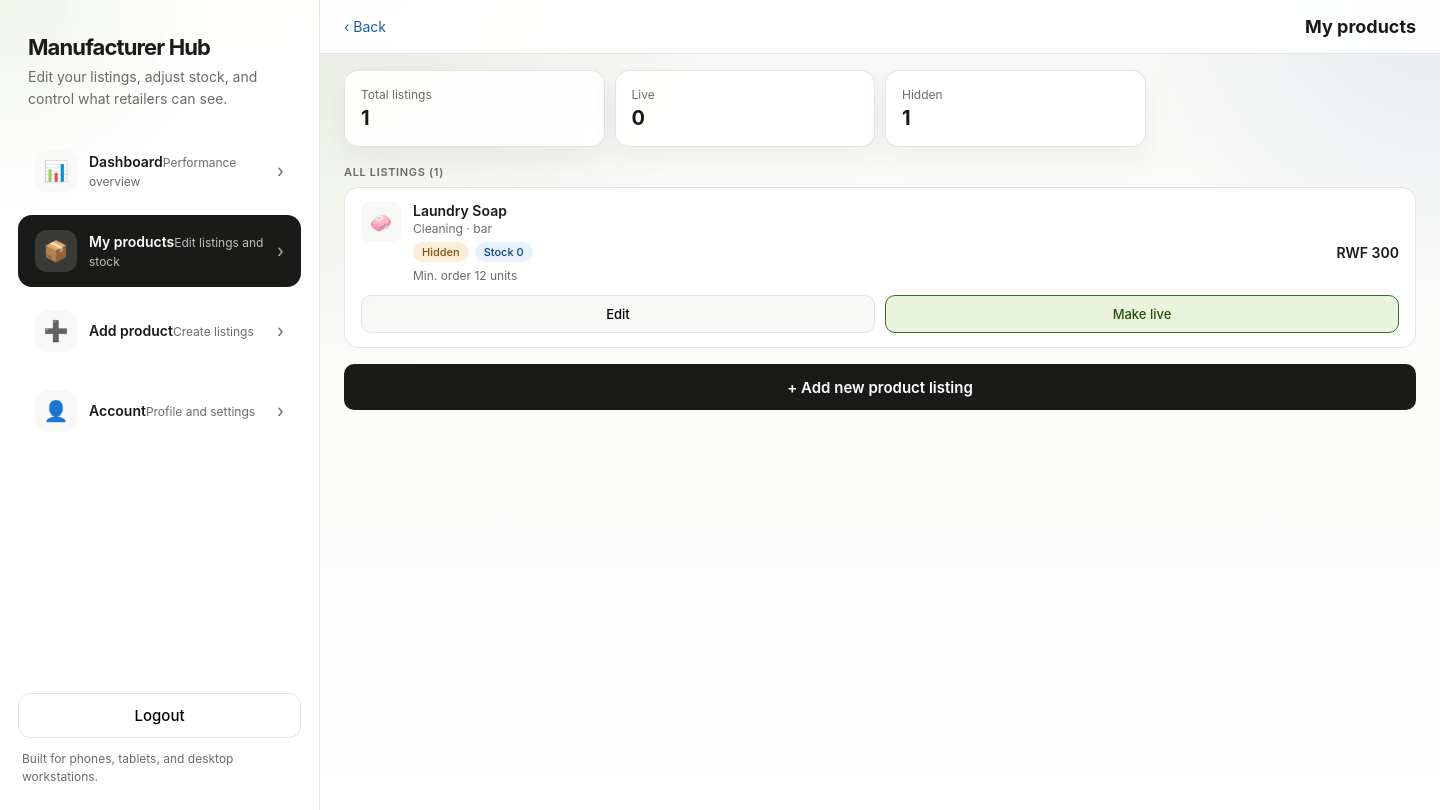
availability › makes a hidden product live again
Expected: the text "Laundry Soap" is shown, [413,202,507,219]
Click the button "Make live": (1142, 314) [885,295,1399,333]
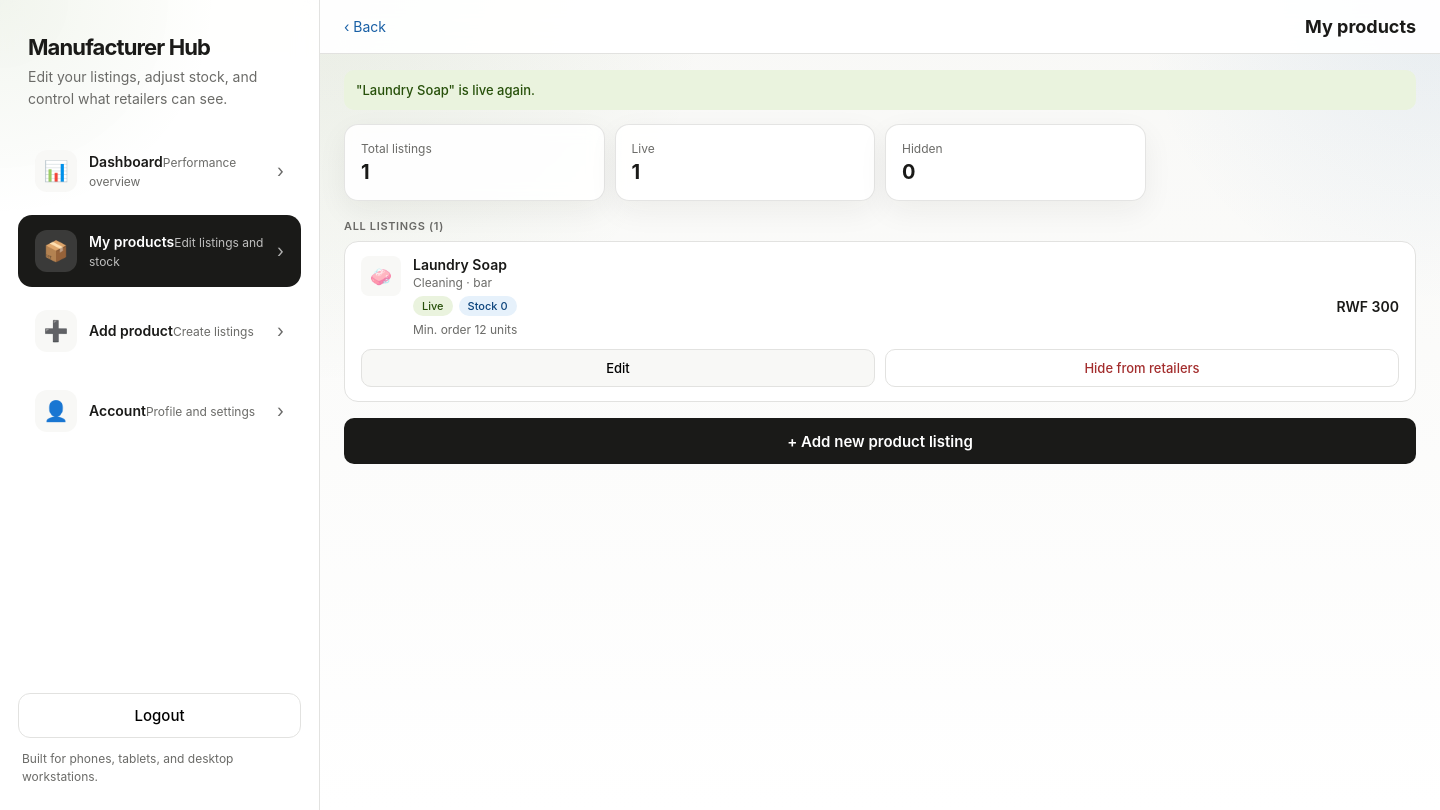
Expected: the text "\"Laundry Soap\" is live again." is shown, [344,70,1416,110]
Expected: the text "Live" in the row of "RWF" is shown, [422,299,444,313]
